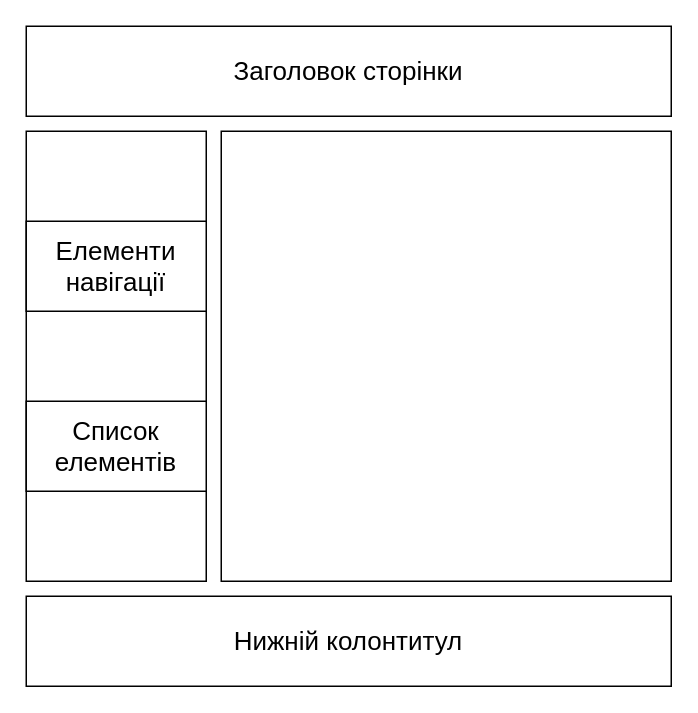
The diagram is 698 pixels wide and 713 high, and some of its shapes have lost their labels. The box of each missing label's shape, as (x1, y1, x2, y2) in pixels:
Головний вміст: (220, 130, 671, 581)
Лівобічне меню: (25, 130, 206, 581)
